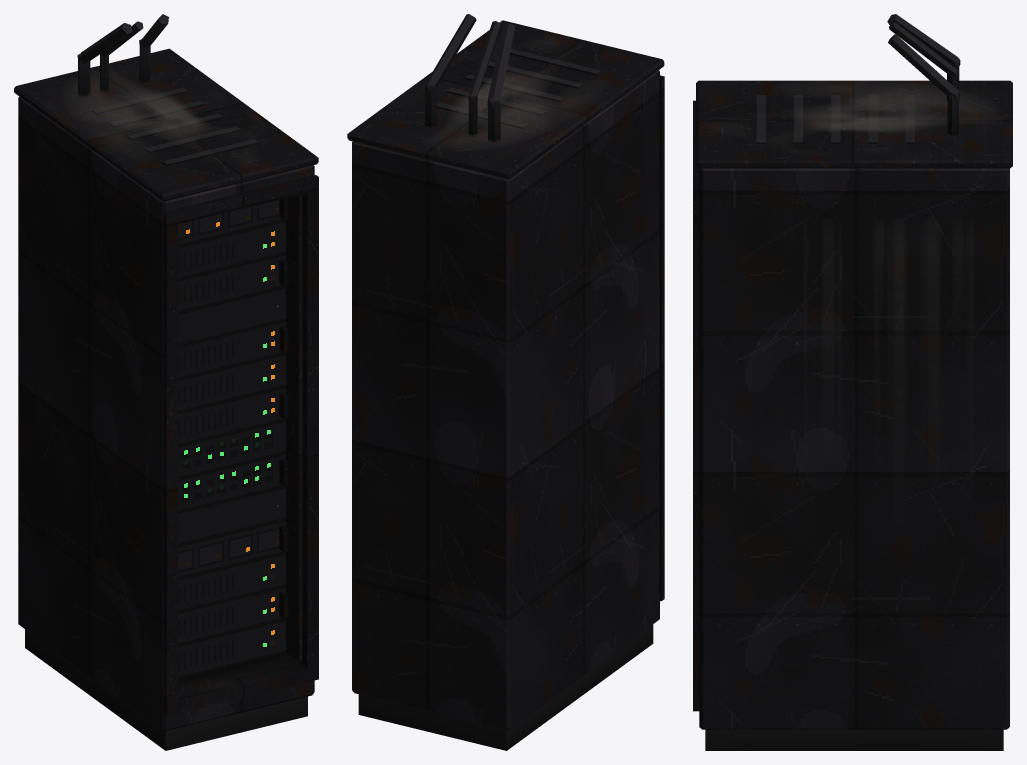
The model's file is server_rack.glb.
The picture shows the model from 3 angles, left to right: view 1: azimuth 30°, elevation 25°; view 2: azimuth 150°, elevation 25°; view 3: azimuth 270°, elevation 25°; orthographic projection. The views are drawn at different scales.
Parts seen in each view (by area): view 1: body, screens, decals, opt_risers; view 2: body, decals, opt_risers; view 3: body, decals, opt_risers.
Part boxes in pixels (bbox=[...]): body: bbox=[14, 48, 318, 750]; screens: bbox=[178, 200, 285, 678]; decals: bbox=[72, 76, 208, 143]; opt_risers: bbox=[77, 14, 168, 97]; body: bbox=[347, 20, 664, 750]; decals: bbox=[442, 72, 583, 145]; opt_risers: bbox=[424, 14, 515, 143]; body: bbox=[693, 80, 1012, 750]; decals: bbox=[796, 85, 987, 394]; opt_risers: bbox=[887, 14, 960, 135].
Size of what is drawn, in the model's own units: 0.62 by 2.45 by 1.03.
Materials: 7 (6 with a texture image).
